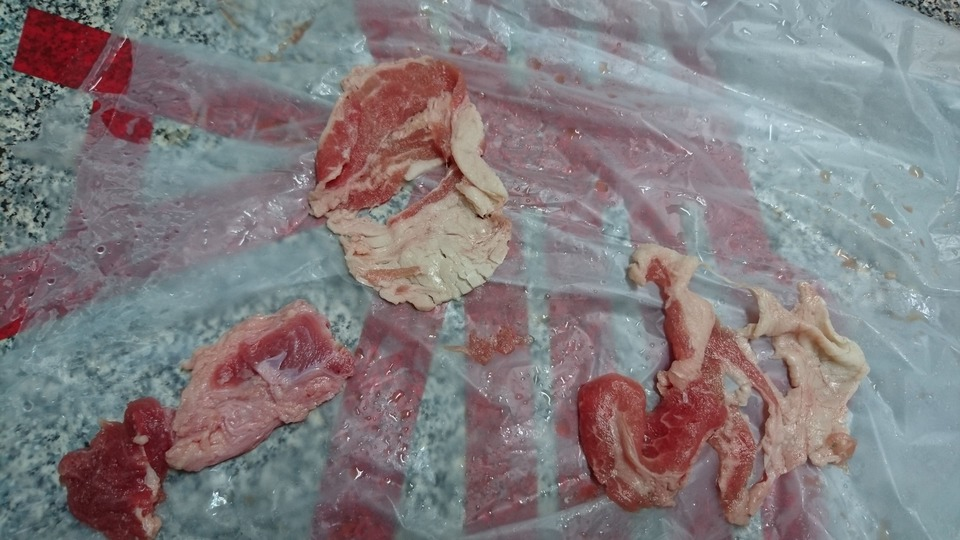restructured meat: (573, 235, 873, 533), (58, 288, 344, 526), (306, 60, 514, 306)
